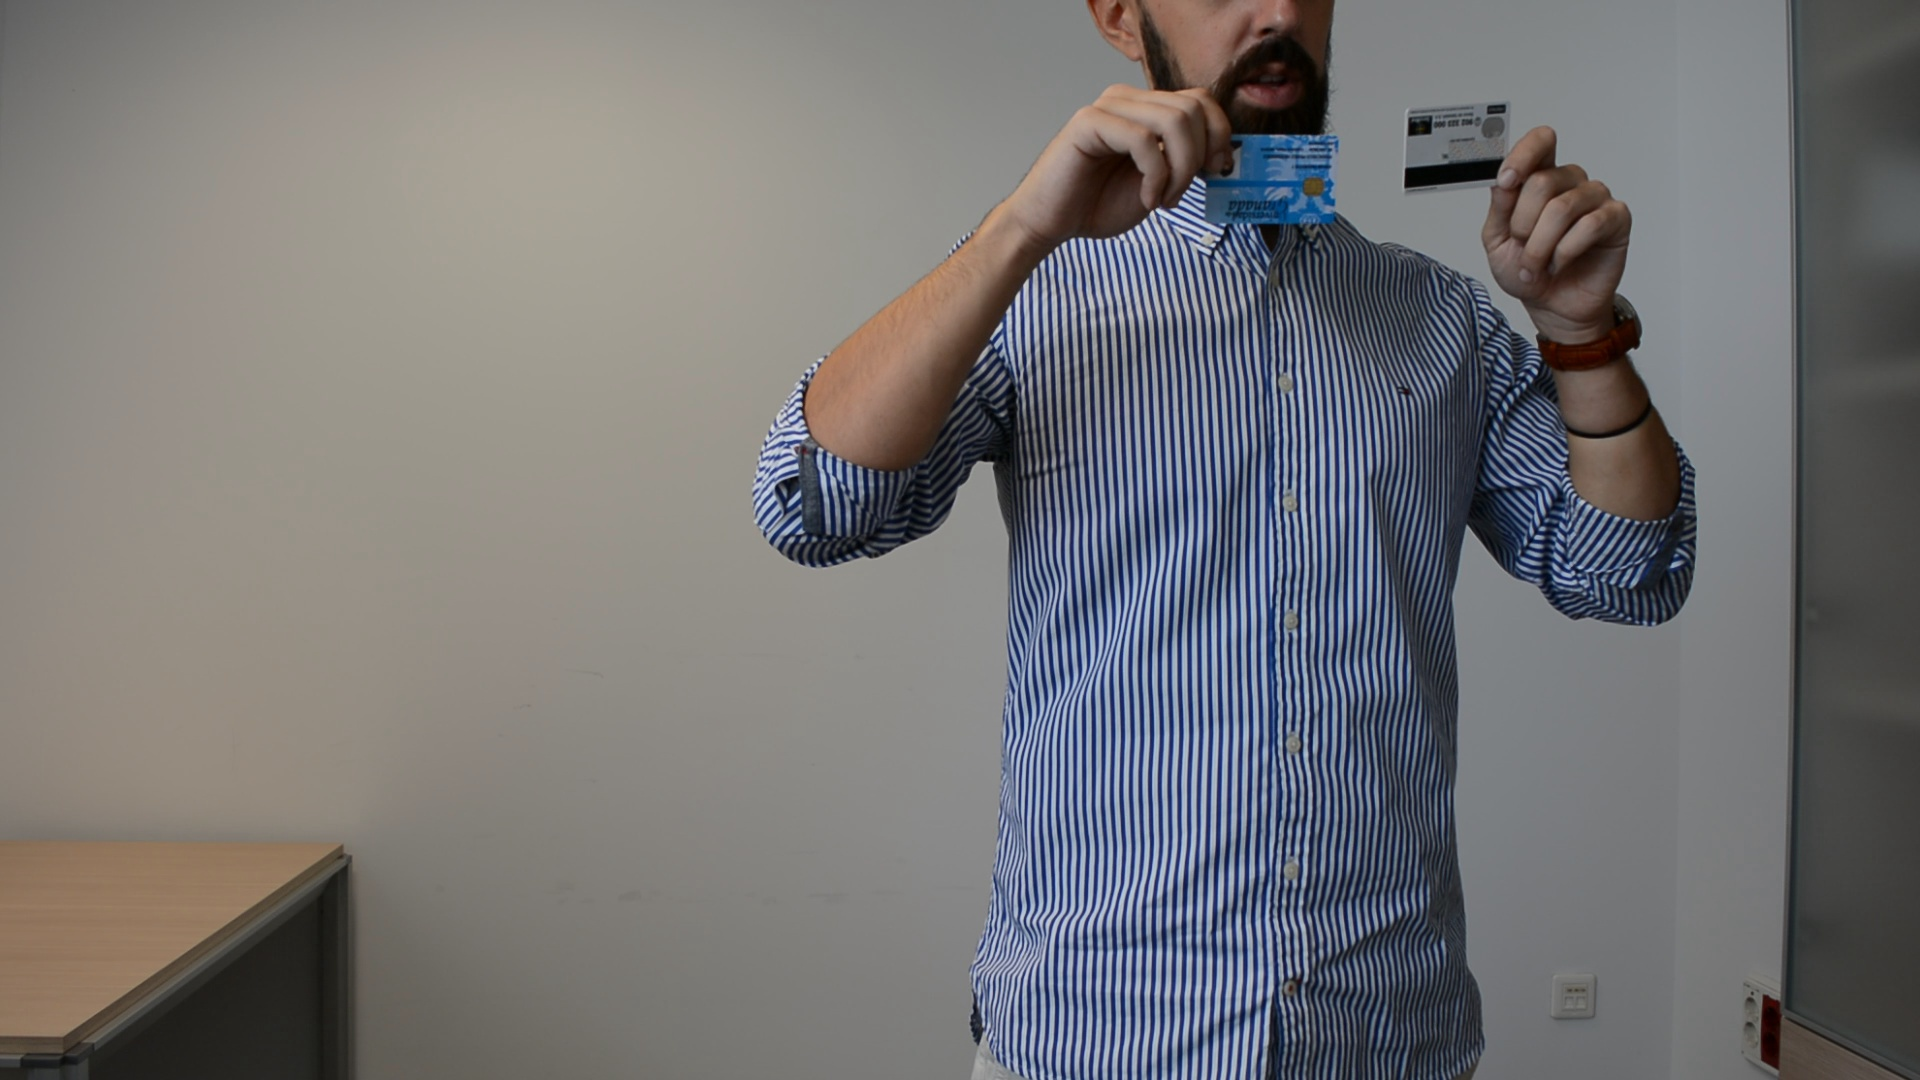tarjeta: (1204, 131, 1346, 228), (1400, 96, 1511, 196)
